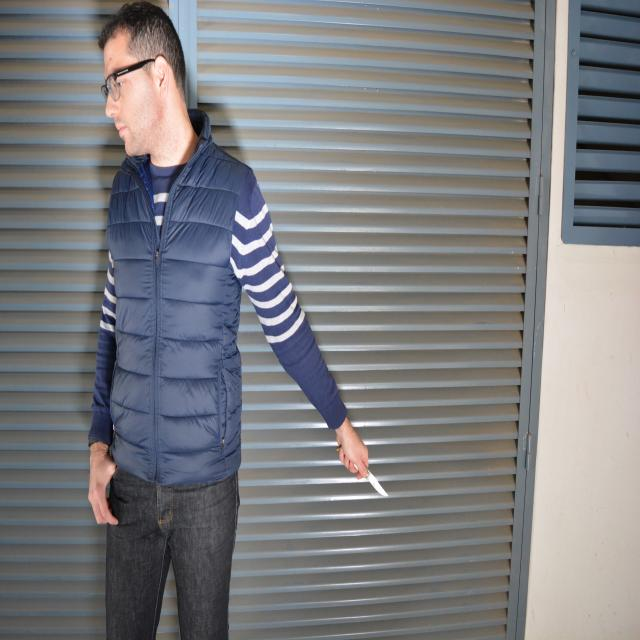knife: (365, 473, 391, 502)
